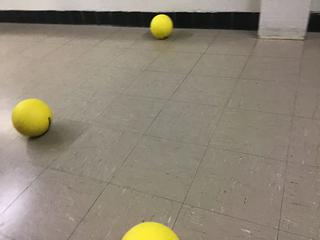power_cell: (10, 97, 53, 141), (148, 13, 175, 37)
